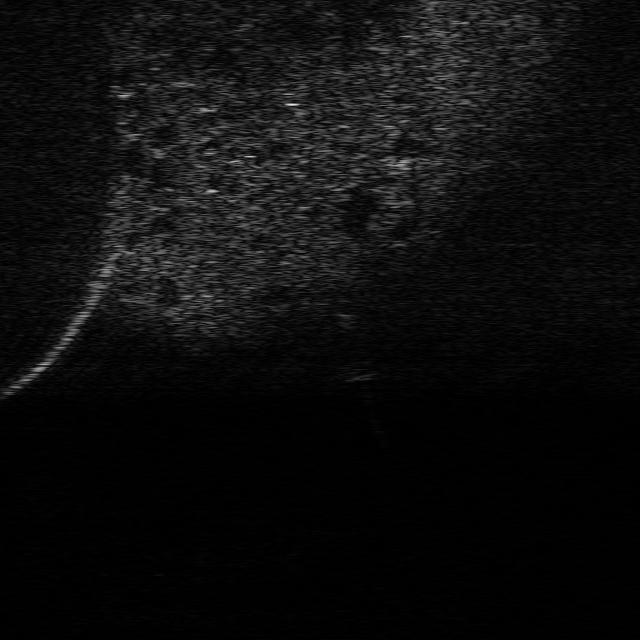cube: (338, 361, 382, 383)
cylinder: (335, 310, 360, 332)
